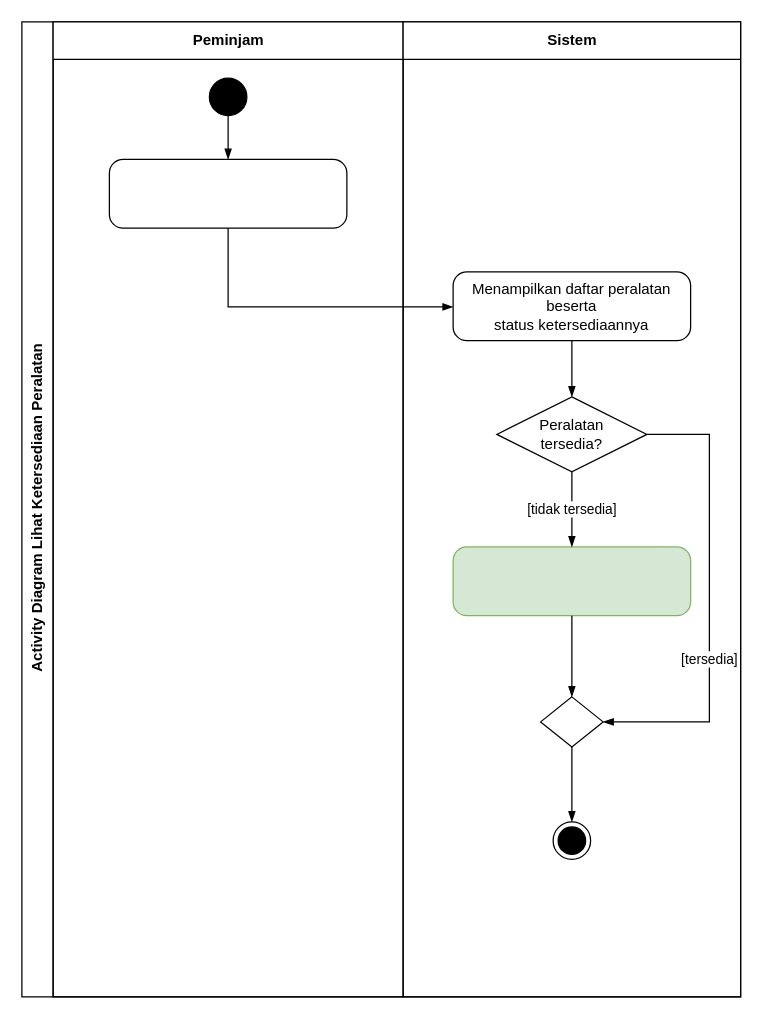
Image size: 763x1019. Some labels were removed from this diagram. Here are the shapes that lost their labels. From the top down, the centre of each, then its label:
At point 227,193: "Membuka fungsi Lihat Ketersediaan Peralatan".
At point 571,581: "Menampilkan pesan tidak ada peralatan yang tersedia".
